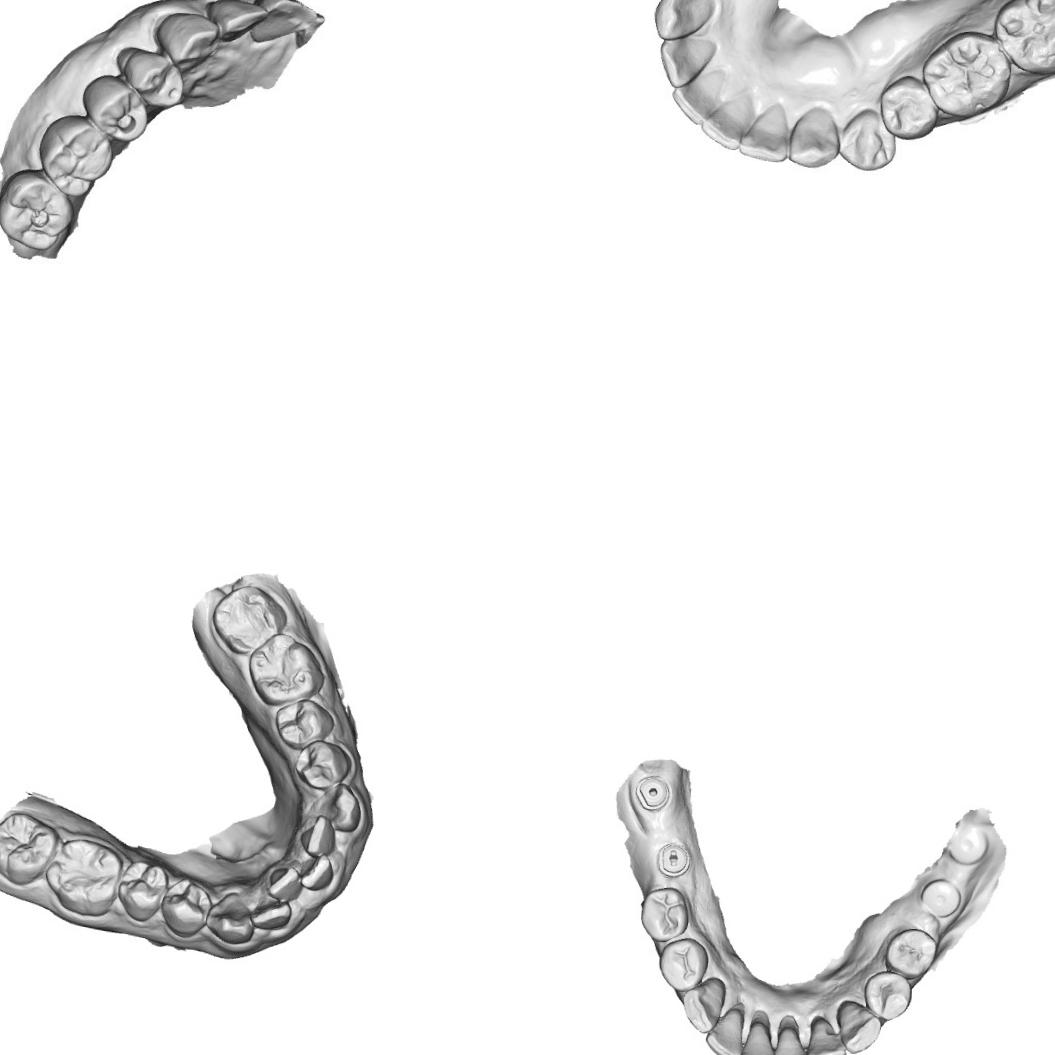canine: (151, 11, 228, 66), (787, 102, 839, 167), (678, 972, 728, 1036), (202, 888, 255, 946), (832, 996, 883, 1055), (654, 0, 720, 39), (325, 781, 363, 834)
implant: (918, 875, 964, 920), (945, 822, 990, 867), (635, 772, 672, 812)
implant_minus: (654, 841, 691, 878)
incisor: (668, 70, 730, 124), (736, 106, 790, 166), (699, 89, 754, 146), (209, 0, 272, 47), (255, 0, 312, 49), (660, 36, 711, 86), (703, 1003, 747, 1055), (803, 1014, 849, 1055), (735, 1017, 779, 1055), (304, 812, 337, 858), (266, 864, 302, 904), (248, 898, 292, 930), (298, 854, 335, 892), (771, 1022, 811, 1055)
molar: (916, 33, 1008, 117), (40, 835, 123, 919), (245, 630, 327, 710), (208, 582, 289, 658), (0, 169, 73, 250), (0, 808, 61, 890), (44, 121, 109, 188), (995, 0, 1055, 68)
premolar: (272, 695, 336, 752), (158, 874, 213, 940), (115, 857, 167, 924), (655, 933, 711, 994), (878, 76, 934, 136), (292, 737, 353, 792), (637, 883, 692, 944), (92, 85, 150, 142), (881, 926, 939, 980), (126, 52, 186, 104), (842, 113, 896, 168), (860, 967, 914, 1022)
